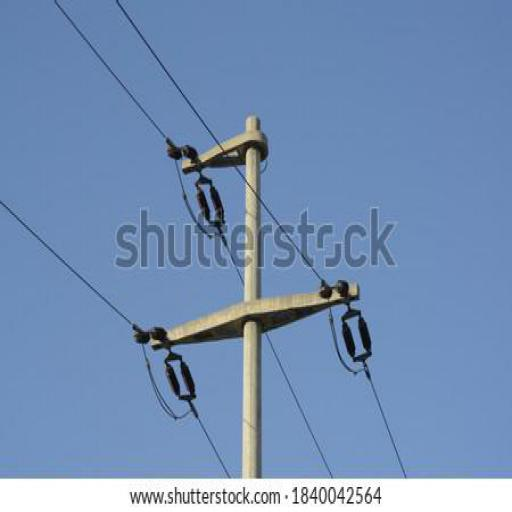mono_10: (134, 113, 362, 477)
